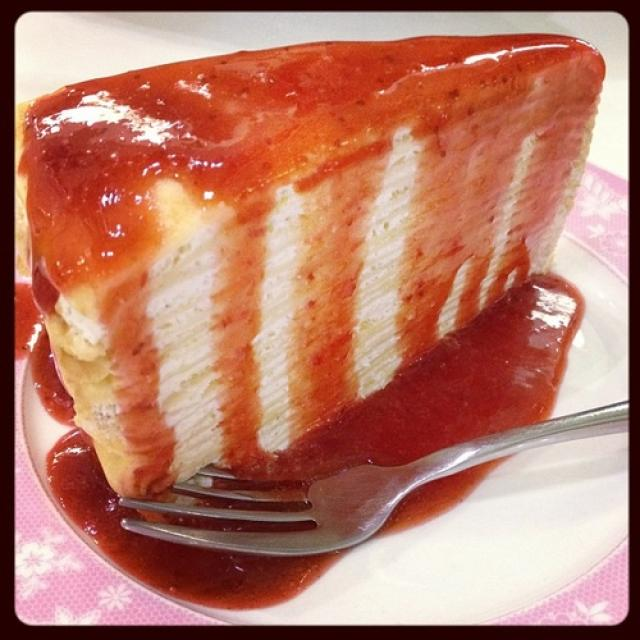蛋糕甜品: (22, 25, 617, 620)
